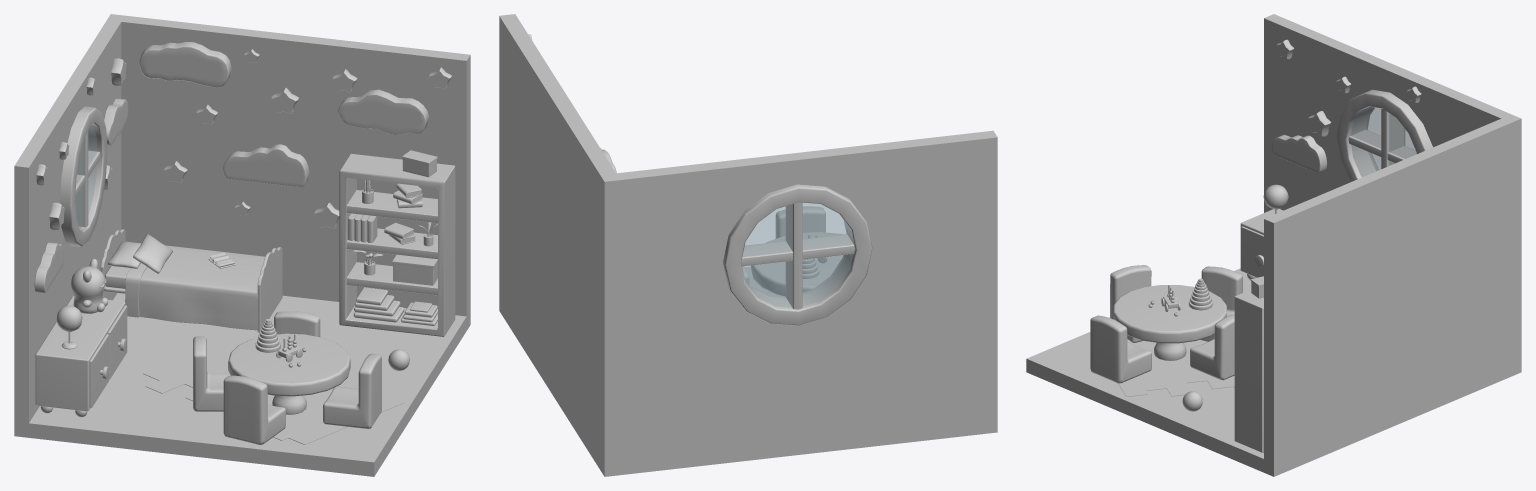
Rendered from Children_Room_2.fbx.
The picture shows the model from 3 angles, left to right: view 1: azimuth 30°, elevation 25°; view 2: azimuth 150°, elevation 25°; view 3: azimuth 270°, elevation 25°; orthographic projection. The views are drawn at different scales.
Visible parts, largest first — view 1: Room_2_Wall_1, Room_2_Floor_1, Room_2_Cupboard_2, Room_2_Bed_1, Room_2_Cupboard_1, Room_2_Table_1, Room_2_Window_1, Room_2_Carpet_1, Room_2_Chair_2, Room_2_Decoration_Cloud_2, Room_2_Decoration_Cloud_1, Room_2_Chair_1 (+16 smaller); view 2: Room_2_Wall_1, Room_2_Window_1, Room_2_Floor_1, Room_2_Table_1, Room_2_Chair_1; view 3: Room_2_Wall_1, Room_2_Floor_1, Room_2_Window_1, Room_2_Table_1, Room_2_Cupboard_2, Room_2_Chair_1, Room_2_Carpet_1, Room_2_Chair_4, Room_2_Cupboard_1, Room_2_Decoration_Cloud_5, Room_2_Chair_3, Room_2_Chair_2 (+1 smaller).
Part boxes in pixels (box(x1,y1,x2,y2)): Room_2_Wall_1: box(14, 14, 470, 423); Room_2_Floor_1: box(14, 293, 470, 476); Room_2_Cupboard_2: box(339, 153, 455, 336); Room_2_Bed_1: box(100, 229, 282, 332); Room_2_Cupboard_1: box(35, 296, 127, 417); Room_2_Table_1: box(228, 333, 350, 414); Room_2_Window_1: box(60, 106, 107, 246); Room_2_Carpet_1: box(143, 331, 404, 444); Room_2_Chair_2: box(223, 375, 285, 444); Room_2_Decoration_Cloud_2: box(139, 42, 231, 87); Room_2_Decoration_Cloud_1: box(337, 89, 429, 134); Room_2_Chair_1: box(323, 353, 381, 428); Room_2_Wall_1: box(499, 14, 997, 460); Room_2_Window_1: box(723, 184, 872, 325); Room_2_Floor_1: box(499, 266, 997, 476); Room_2_Table_1: box(751, 232, 842, 295); Room_2_Chair_1: box(775, 206, 825, 238); Room_2_Wall_1: box(1264, 14, 1521, 462); Room_2_Floor_1: box(1026, 268, 1521, 476); Room_2_Window_1: box(1336, 89, 1432, 182); Room_2_Table_1: box(1113, 285, 1226, 360); Room_2_Cupboard_2: box(1234, 289, 1263, 452); Room_2_Chair_1: box(1090, 315, 1151, 383); Room_2_Carpet_1: box(1118, 339, 1234, 396); Room_2_Chair_4: box(1190, 314, 1234, 380); Room_2_Cupboard_1: box(1240, 209, 1283, 279); Room_2_Decoration_Cloud_5: box(1271, 134, 1327, 173); Room_2_Chair_3: box(1200, 266, 1242, 341); Room_2_Chair_2: box(1110, 265, 1151, 342).
Size of the model in its own units: 707 by 400 by 707.
